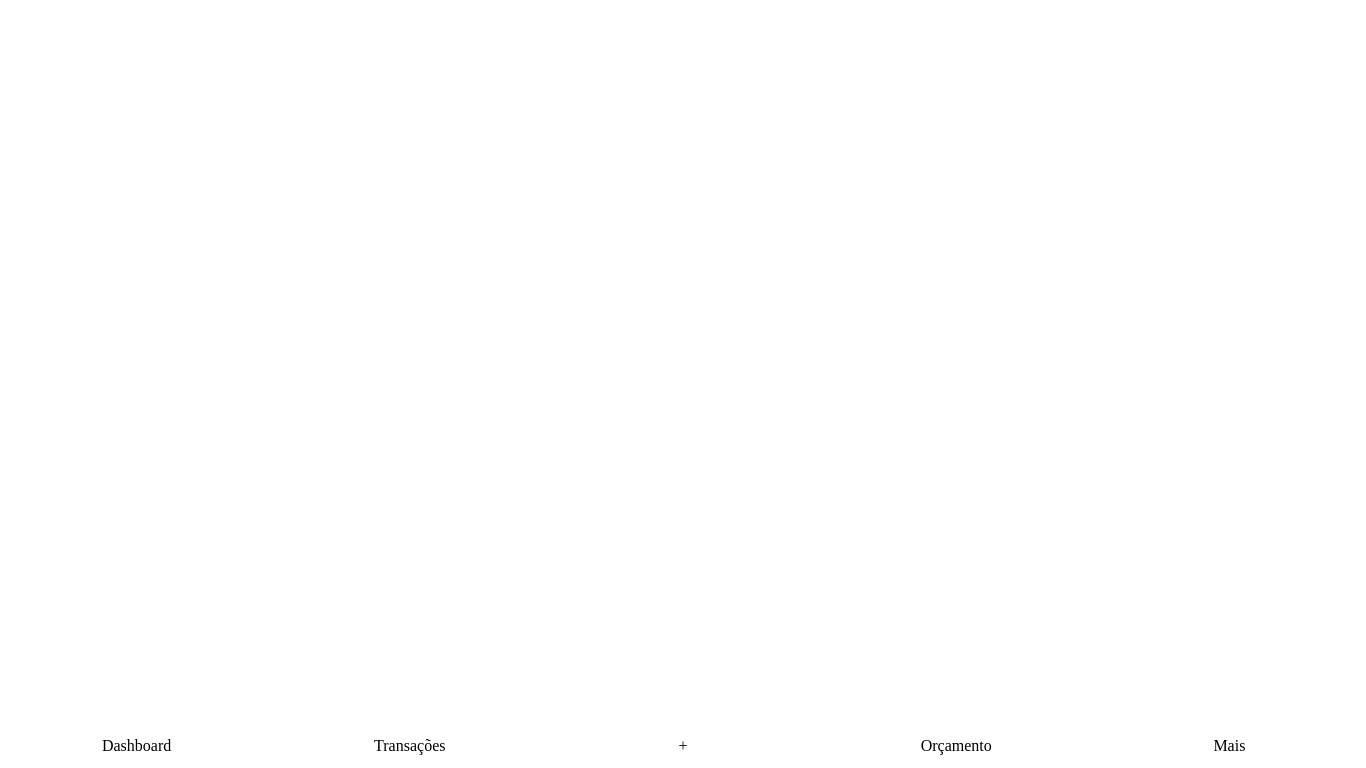
layout: celular › critério 6: barra inferior com cinco itens e gaveta Mais com todos os grupos, rodapés e busca
Expected: the link named "Nova transação" is shown, [678,737,688,754]
Expected: the number of links is 4, [102,737,171,754]; [374,737,446,754]; [678,737,688,754]; [921,737,992,754]
Step 1. Click the button "Mais" → click(1229, 746), box [1093,724,1365,767]
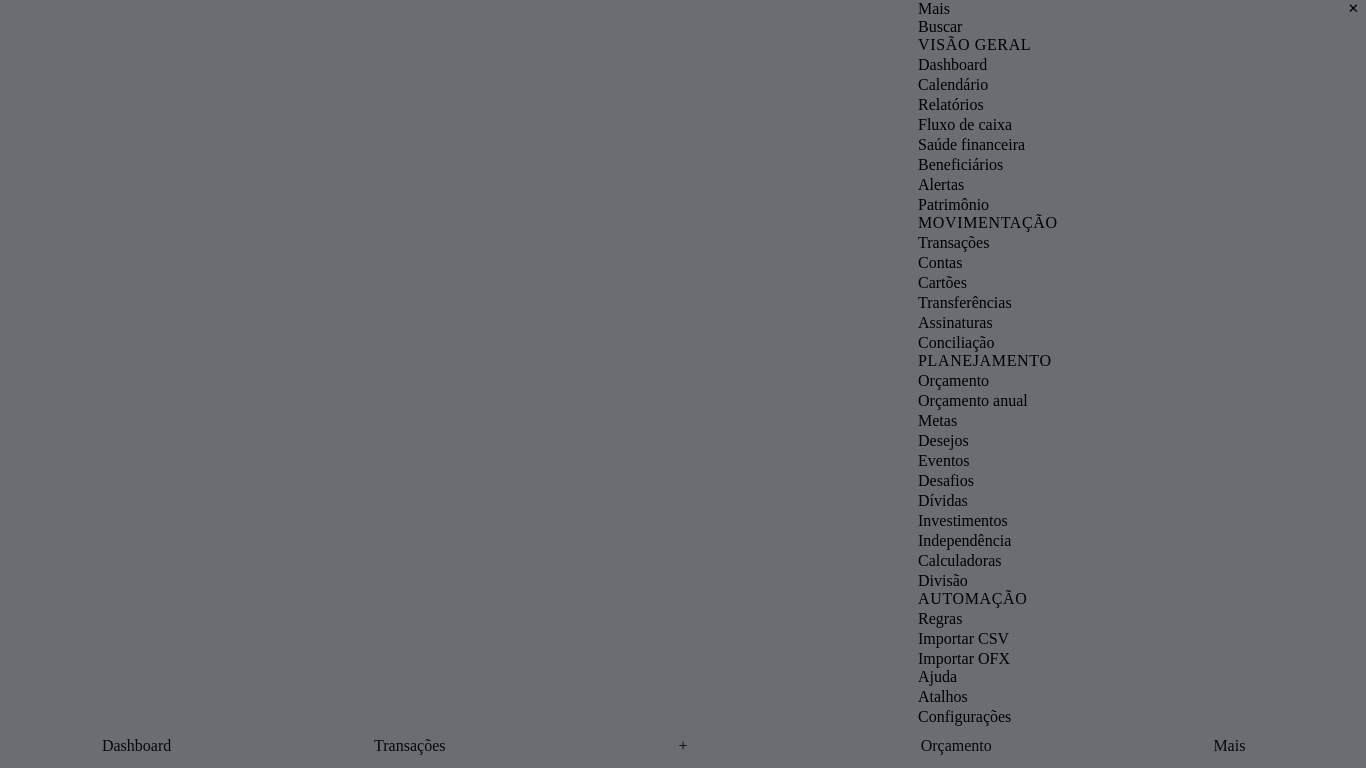
Now the navigation bar "Visão geral" is shown, box [918,36,1031,213]
Now the navigation bar "Movimentação" is shown, box [918,214,1058,351]
Now the navigation bar "Planejamento" is shown, box [918,352,1052,589]
Step 2. Click the button "Buscar" → click(940, 26), box [918,18,1365,36]
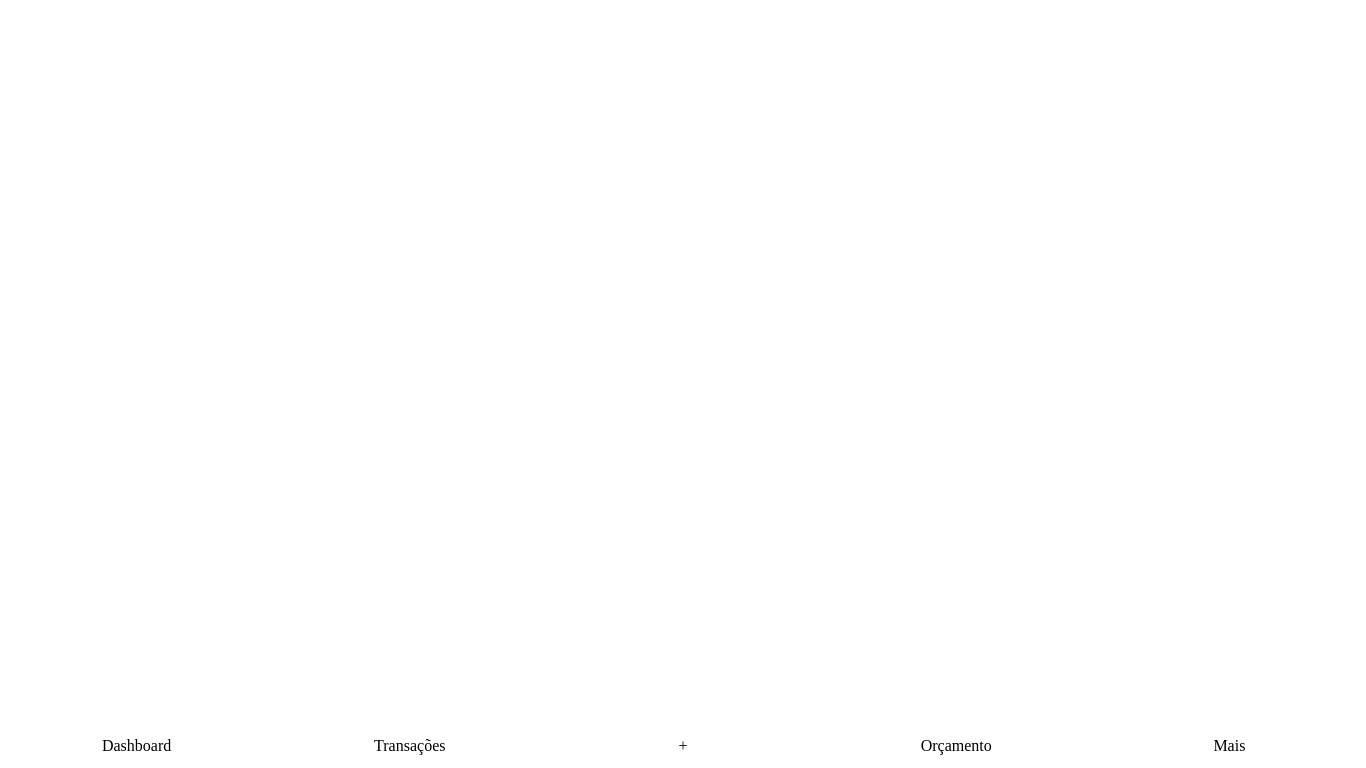
Now the dialog is gone
